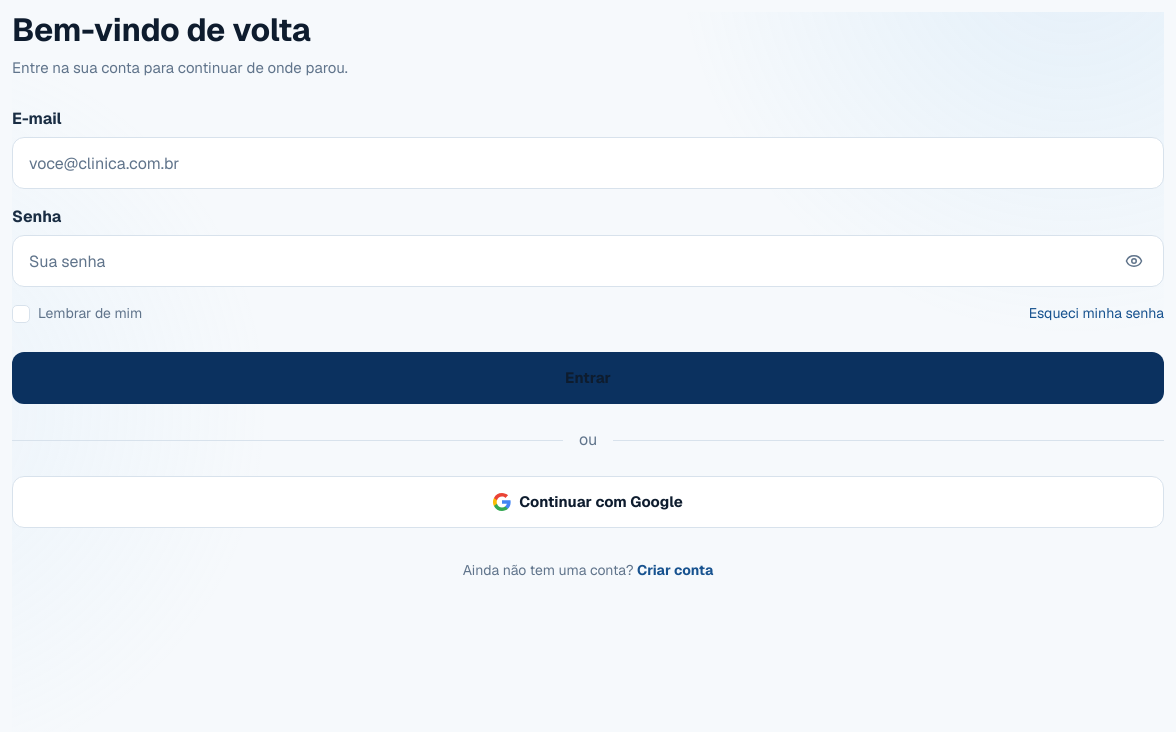
estados do envio › recusa do servidor vira mensagem, sem limpar a tela
Type "maria@exemplo.com" into the field labelled "E-mail".
click(588, 163); type("maria@exemplo.com")  # box x1=12 y1=137 x2=1164 y2=189
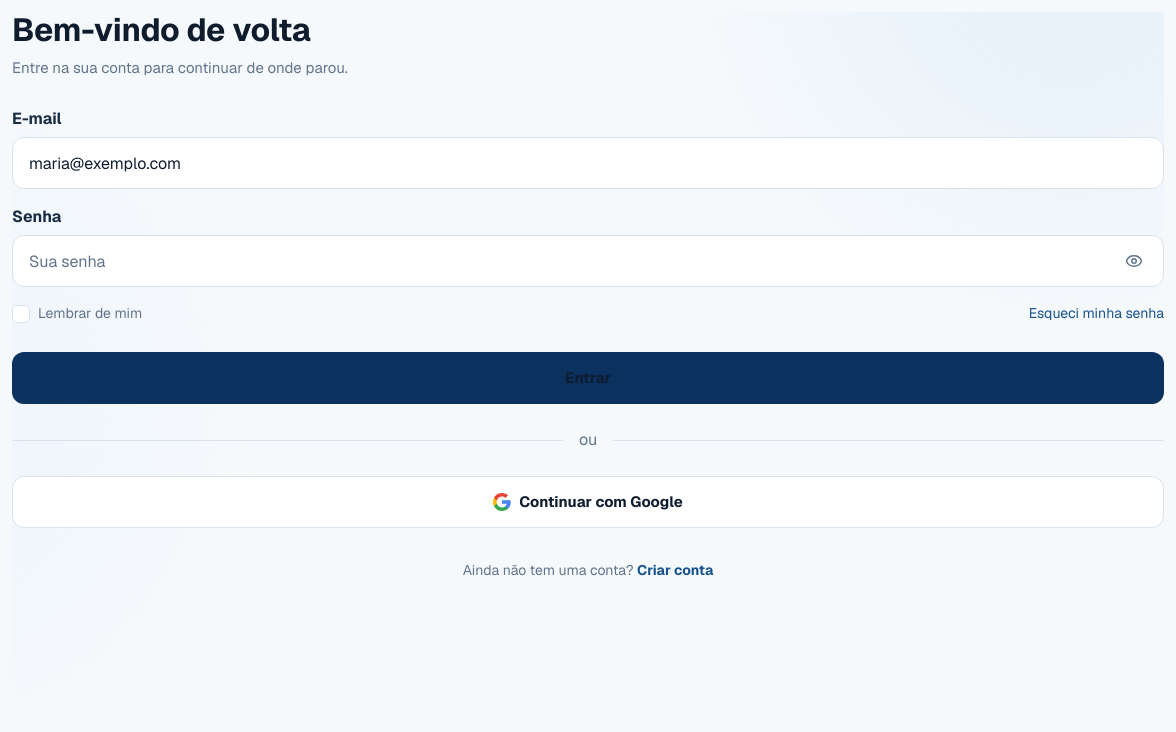
Type "clinica2026" into the password field labelled "Senha".
click(588, 261); type("clinica2026")  # box x1=12 y1=235 x2=1164 y2=287
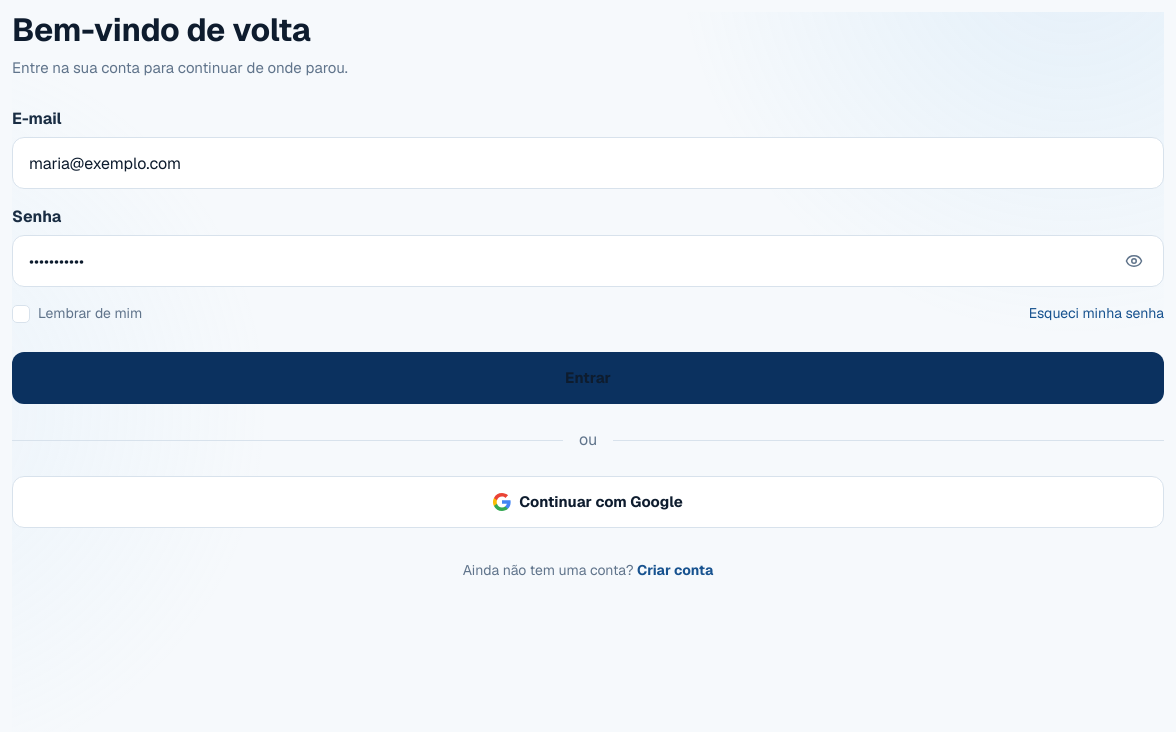
Click the button "Entrar".
click(588, 378)  # box x1=12 y1=352 x2=1164 y2=404
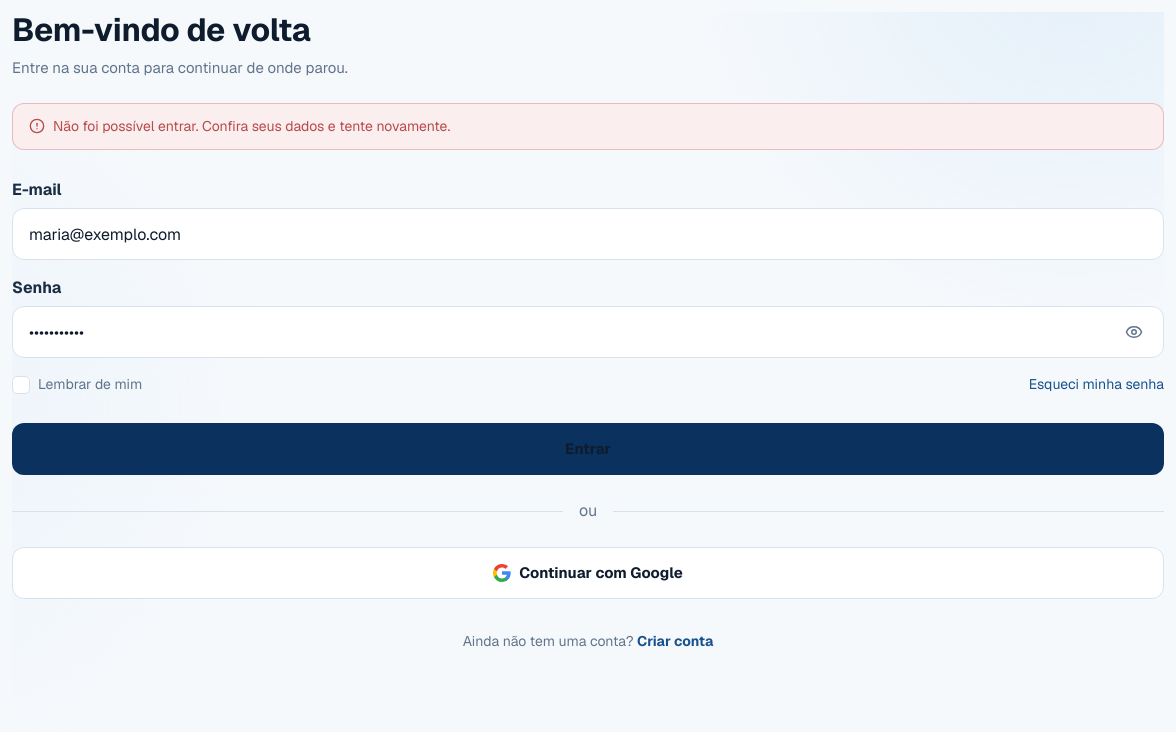
Check: the message shows "Não foi possível entrar", box x1=53 y1=117 x2=450 y2=135
